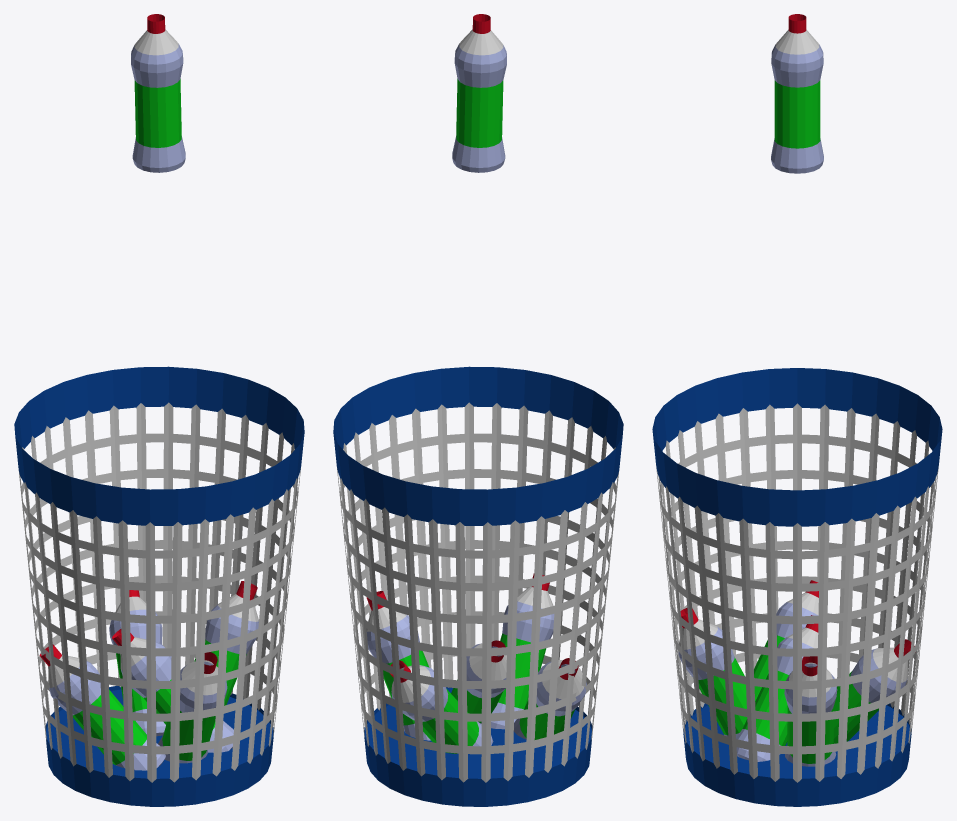
The model's file is DustbinWithCan_000001.obj.
3 views of the same model, side by side, from view 1: azimuth 30°, elevation 25°; view 2: azimuth 150°, elevation 25°; view 3: azimuth 270°, elevation 25° (orthographic).
Parts seen in each view (by area): view 1: Cylinder, Plane.006, Plane.005, Plane.001, Plane.004, Plane.003, Plane.002; view 2: Cylinder, Plane.006, Plane.001, Plane.002, Plane.005, Plane.003, Plane.004; view 3: Cylinder, Plane.006, Plane.001, Plane.004, Plane.003, Plane.002, Plane.005.
Boxes of the visible parts, x1,y1,x2,y2 form: Cylinder: (14,366,304,806); Plane.006: (131,14,185,172); Plane.005: (39,644,165,770); Plane.001: (158,652,227,763); Plane.004: (112,629,233,752); Plane.003: (194,581,258,705); Plane.002: (109,590,165,736); Cylinder: (333,366,623,806); Plane.006: (452,14,506,172); Plane.001: (481,573,554,729); Plane.002: (390,660,493,753); Plane.005: (513,658,586,739); Plane.003: (366,591,430,740); Plane.004: (451,640,506,723); Cylinder: (652,368,942,806); Plane.006: (771,14,823,173); Plane.001: (678,608,756,737); Plane.004: (736,615,818,761); Plane.003: (784,656,837,766); Plane.002: (833,639,915,743); Plane.005: (754,580,818,697).
Bounding box in the file's own units: 2.6 × 7.33 × 2.6.
